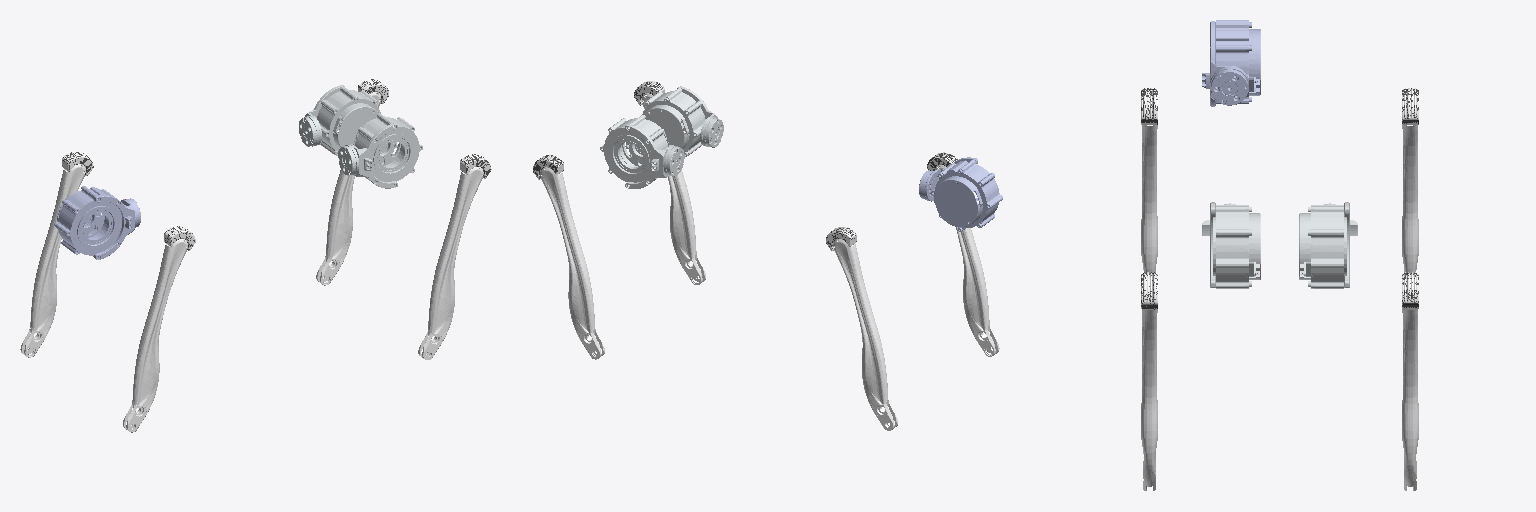
URDF robot description (leg_urdf20250414_1):
<?xml version="1.0" encoding="utf-8"?>
<!-- This URDF was automatically created by SolidWorks to URDF Exporter! Originally created by Stephen Brawner ([email redacted]) 
     Commit Version: 1.6.0-4-g7f85cfe  Build Version: 1.6.7995.38578
     For more information, please see http://wiki.ros.org/sw_urdf_exporter -->
<robot
  name="leg_urdf20250414_1">
  <link
    name="base">
    <inertial>
      <origin
        xyz="-0.0066699 -0.0036748 -0.0047946"
        rpy="0 0 0" />
      <mass
        value="5.3832" />
      <inertia
        ixx="0.013437"
        ixy="-6.9871E-06"
        ixz="-0.00020711"
        iyy="0.031665"
        iyz="-9.5328E-06"
        izz="0.039598" />
    </inertial>
    <visual>
      <origin
        xyz="0 0 0"
        rpy="0 0 0" />
      <geometry>
        <mesh
          filename="package://leg_urdf20250414_1/meshes/base.STL" />
      </geometry>
      <material
        name="">
        <color
          rgba="0.25098 0.25098 0.25098 1" />
      </material>
    </visual>
    <collision>
      <origin
        xyz="0 0 0"
        rpy="0 0 0" />
      <geometry>
        <mesh
          filename="package://leg_urdf20250414_1/meshes/base.STL" />
      </geometry>
    </collision>
  </link>
  <link
    name="LF_hip">
    <inertial>
      <origin
        xyz="0.042864 -0.00047394 -2.8926E-05"
        rpy="0 0 0" />
      <mass
        value="0.16386" />
      <inertia
        ixx="0.00012341"
        ixy="-5.2157E-06"
        ixz="-1.1555E-06"
        iyy="0.0001958"
        iyz="-9.8907E-08"
        izz="0.00010494" />
    </inertial>
    <visual>
      <origin
        xyz="0 0 0"
        rpy="0 0 0" />
      <geometry>
        <mesh
          filename="package://leg_urdf20250414_1/meshes/LF_hip.STL" />
      </geometry>
      <material
        name="">
        <color
          rgba="0.89804 0.91765 0.92941 1" />
      </material>
    </visual>
    <collision>
      <origin
        xyz="0 0 0"
        rpy="0 0 0" />
      <geometry>
        <mesh
          filename="package://leg_urdf20250414_1/meshes/LF_hip.STL" />
      </geometry>
    </collision>
  </link>
  <joint
    name="LF_HAA"
    type="revolute">
    <origin
      xyz="0.1978 0.06 -0.0073383"
      rpy="0 0 0" />
    <parent
      link="base" />
    <child
      link="LF_hip" />
    <axis
      xyz="1 0 0" />
    <limit
      lower="-1.05"
      upper="1.05"
      effort="60"
      velocity="15" />
  </joint>
  <link
    name="LF_thigh">
    <inertial>
      <origin
        xyz="0.00436683720793934 0.0220762223078676 -0.0940952641066127"
        rpy="0 0 0" />
      <mass
        value="0.882649526971419" />
      <inertia
        ixx="0.00415924322538449"
        ixy="-5.34750962434057E-06"
        ixz="-9.05829574075116E-05"
        iyy="0.00457431590966923"
        iyz="3.5094545931096E-05"
        izz="0.000520630016824553" />
    </inertial>
    <visual>
      <origin
        xyz="0 0 0"
        rpy="0 0 0" />
      <geometry>
        <mesh
          filename="package://leg_urdf20250414_1/meshes/LF_thigh.STL" />
      </geometry>
      <material
        name="">
        <color
          rgba="0.898039215686275 0.917647058823529 0.929411764705882 1" />
      </material>
    </visual>
    <collision>
      <origin
        xyz="0 0 0"
        rpy="0 0 0" />
      <geometry>
        <mesh
          filename="package://leg_urdf20250414_1/meshes/LF_thigh.STL" />
      </geometry>
    </collision>
  </link>
  <joint
    name="LF_HFE"
    type="revolute">
    <origin
      xyz="0.0627 0.0624 0"
      rpy="0 0 0" />
    <parent
      link="LF_hip" />
    <child
      link="LF_thigh" />
    <axis
      xyz="0 1 0" />
    <limit
      lower="-1.57"
      upper="3.35"
      effort="60"
      velocity="15" />
  </joint>
  <link
    name="LF_calf">
    <inertial>
      <origin
        xyz="0.0353231393749997 0.000329711873662181 0.137279161740425"
        rpy="0 0 0" />
      <mass
        value="0.291228893559729" />
      <inertia
        ixx="0.00107142137463083"
        ixy="8.16218987771121E-08"
        ixz="-0.000225822383336276"
        iyy="0.0011429950874814"
        iyz="1.42384757266927E-07"
        izz="8.3967835261648E-05" />
    </inertial>
    <visual>
      <origin
        xyz="0 0 0"
        rpy="0 0 0" />
      <geometry>
        <mesh
          filename="package://leg_urdf20250414_1/meshes/LF_calf.STL" />
      </geometry>
      <material
        name="">
        <color
          rgba="1 1 1 1" />
      </material>
    </visual>
    <collision>
      <origin
        xyz="0 0 0"
        rpy="0 0 0" />
      <geometry>
        <mesh
          filename="package://leg_urdf20250414_1/meshes/LF_calf.STL" />
      </geometry>
    </collision>
  </link>
  <joint
    name="LF_KFE"
    type="revolute">
    <origin
      xyz="0.024642 0.033 -0.28146"
      rpy="0 0 0" />
    <parent
      link="LF_thigh" />
    <child
      link="LF_calf" />
    <axis
      xyz="0 1 0" />
    <limit
      lower="0"
      upper="2.2"
      effort="60"
      velocity="15" />
  </joint>
  <link
    name="LF_FOOT">
    <inertial>
      <origin
        xyz="-0.609114064249484 0.332622028991796 -0.155700005966804"
        rpy="0 0 0" />
      <mass
        value="0.0259775757821095" />
      <inertia
        ixx="5.12957211624476E-06"
        ixy="-1.23448279124937E-06"
        ixz="-1.64037105362469E-12"
        iyy="2.66954930549516E-06"
        iyz="1.55483362744839E-12"
        izz="6.06492352296267E-06" />
    </inertial>
    <visual>
      <origin
        xyz="0 0 0"
        rpy="0 0 0" />
      <geometry>
        <mesh
          filename="package://leg_urdf20250414_1/meshes/LF_FOOT.STL" />
      </geometry>
      <material
        name="">
        <color
          rgba="0.384313725490196 0.384313725490196 0.384313725490196 1" />
      </material>
    </visual>
    <collision>
      <origin
        xyz="0 0 0"
        rpy="0 0 0" />
      <geometry>
        <mesh
          filename="package://leg_urdf20250414_1/meshes/LF_FOOT.STL" />
      </geometry>
    </collision>
  </link>
  <joint
    name="LF_foot_fixed"
    type="fixed">
    <origin
      xyz="-0.285141510567482 -0.155399999999991 -0.318544612097913"
      rpy="-1.5707963267949 1.52191034425173 3.14159265358979" />
    <parent
      link="LF_calf" />
    <child
      link="LF_FOOT" />
    <axis
      xyz="0 0 0" />
    <limit
      lower="-2.72"
      upper="-0.84"
      effort="60"
      velocity="15" />
  </joint>
  <link
    name="LH_hip">
    <inertial>
      <origin
        xyz="-0.0433644646355627 -0.000473926080253394 2.89141840380536E-05"
        rpy="0 0 0" />
      <mass
        value="0.16385534253276" />
      <inertia
        ixx="0.000123407065871323"
        ixy="5.21572443490012E-06"
        ixz="-1.15546077533709E-06"
        iyy="0.000195800284945129"
        iyz="9.8908641401561E-08"
        izz="0.000104939607045861" />
    </inertial>
    <visual>
      <origin
        xyz="0 0 0"
        rpy="0 0 0" />
      <geometry>
        <mesh
          filename="package://leg_urdf20250414_1/meshes/LH_hip.STL" />
      </geometry>
      <material
        name="">
        <color
          rgba="0.898039215686275 0.917647058823529 0.929411764705882 1" />
      </material>
    </visual>
    <collision>
      <origin
        xyz="0 0 0"
        rpy="0 0 0" />
      <geometry>
        <mesh
          filename="package://leg_urdf20250414_1/meshes/LH_hip.STL" />
      </geometry>
    </collision>
  </link>
  <joint
    name="LH_HAA"
    type="revolute">
    <origin
      xyz="-0.1973 0.06 -0.0073383"
      rpy="0 0 0" />
    <parent
      link="base" />
    <child
      link="LH_hip" />
    <axis
      xyz="-1 0 0" />
    <limit
      lower="-1.05"
      upper="1.05"
      effort="60"
      velocity="15" />
  </joint>
  <link
    name="LH_thigh">
    <inertial>
      <origin
        xyz="0.00698095866463322 0.0650895806226572 -0.0944113989514764"
        rpy="0 0 0" />
      <mass
        value="0.878447120767621" />
      <inertia
        ixx="0.00416751500567482"
        ixy="-5.43143322040717E-06"
        ixz="-0.00018081047075565"
        iyy="0.00457417825946368"
        iyz="3.50855269071827E-05"
        izz="0.00051219180647571" />
    </inertial>
    <visual>
      <origin
        xyz="0 0 0"
        rpy="0 0 0" />
      <geometry>
        <mesh
          filename="package://leg_urdf20250414_1/meshes/LH_thigh.STL" />
      </geometry>
      <material
        name="">
        <color
          rgba="0.898039215686275 0.917647058823529 0.929411764705882 1" />
      </material>
    </visual>
    <collision>
      <origin
        xyz="0 0 0"
        rpy="0 0 0" />
      <geometry>
        <mesh
          filename="package://leg_urdf20250414_1/meshes/LH_thigh.STL" />
      </geometry>
    </collision>
  </link>
  <joint
    name="LH_HFE"
    type="revolute">
    <origin
      xyz="-0.0632 0.0195 0"
      rpy="0 0 0" />
    <parent
      link="LH_hip" />
    <child
      link="LH_thigh" />
    <axis
      xyz="0 1 0" />
    <limit
      lower="-1.57"
      upper="3.35"
      effort="60"
      velocity="15" />
  </joint>
  <link
    name="LH_calf">
    <inertial>
      <origin
        xyz="0.0353231351553344 0.000329711798349563 0.137279148280852"
        rpy="0 0 0" />
      <mass
        value="0.29122892183166" />
      <inertia
        ixx="0.00107142142787039"
        ixy="8.16212025763138E-08"
        ixz="-0.000225822393349355"
        iyy="0.00114299514793146"
        iyz="1.42387332405903E-07"
        izz="8.39678431642949E-05" />
    </inertial>
    <visual>
      <origin
        xyz="0 0 0"
        rpy="0 0 0" />
      <geometry>
        <mesh
          filename="package://leg_urdf20250414_1/meshes/LH_calf.STL" />
      </geometry>
      <material
        name="">
        <color
          rgba="1 1 1 1" />
      </material>
    </visual>
    <collision>
      <origin
        xyz="0 0 0"
        rpy="0 0 0" />
      <geometry>
        <mesh
          filename="package://leg_urdf20250414_1/meshes/LH_calf.STL" />
      </geometry>
    </collision>
  </link>
  <joint
    name="LH_KFE"
    type="revolute">
    <origin
      xyz="0.025437 0.0759 -0.28147"
      rpy="0 0 0" />
    <parent
      link="LH_thigh" />
    <child
      link="LH_calf" />
    <axis
      xyz="0 1 0" />
    <limit
      lower="0"
      upper="2.2"
      effort="60"
      velocity="15" />
  </joint>
  <link
    name="LH_FOOT">
    <inertial>
      <origin
        xyz="-0.583678557893057 -0.186960008792956 -0.155700005966238"
        rpy="0 0 0" />
      <mass
        value="0.0259775757821097" />
      <inertia
        ixx="5.12957211624476E-06"
        ixy="-1.23448279124939E-06"
        ixz="-1.64037100818952E-12"
        iyy="2.66954930549518E-06"
        iyz="1.55483370143718E-12"
        izz="6.0649235229627E-06" />
    </inertial>
    <visual>
      <origin
        xyz="0 0 0"
        rpy="0 0 0" />
      <geometry>
        <mesh
          filename="package://leg_urdf20250414_1/meshes/LH_FOOT.STL" />
      </geometry>
      <material
        name="">
        <color
          rgba="0.384313725490196 0.384313725490196 0.384313725490196 1" />
      </material>
    </visual>
    <collision>
      <origin
        xyz="0 0 0"
        rpy="0 0 0" />
      <geometry>
        <mesh
          filename="package://leg_urdf20250414_1/meshes/LH_FOOT.STL" />
      </geometry>
    </collision>
  </link>
  <joint
    name="LH_foot_fixed"
    type="fixed">
    <origin
      xyz="0.235062736575495 -0.1554 -0.318529655609828"
      rpy="-1.5707963267949 1.52191034425174 3.14159265358979" />
    <parent
      link="LH_calf" />
    <child
      link="LH_FOOT" />
    <axis
      xyz="0 0 0" />
    <limit
      lower="-2.72"
      upper="-0.84"
      effort="60"
      velocity="15" />
  </joint>
  <link
    name="RF_hip">
    <inertial>
      <origin
        xyz="0.0433644648693298 0.0004739479629823 -2.89217444162659E-05"
        rpy="0 0 0" />
      <mass
        value="0.163855386935685" />
      <inertia
        ixx="0.000123407074924426"
        ixy="5.21571674467525E-06"
        ixz="-1.15545094341875E-06"
        iyy="0.000195800300641504"
        iyz="9.89103694234527E-08"
        izz="0.000104939625038023" />
    </inertial>
    <visual>
      <origin
        xyz="0 0 0"
        rpy="0 0 0" />
      <geometry>
        <mesh
          filename="package://leg_urdf20250414_1/meshes/RF_hip.STL" />
      </geometry>
      <material
        name="">
        <color
          rgba="0.898039215686275 0.917647058823529 0.929411764705882 1" />
      </material>
    </visual>
    <collision>
      <origin
        xyz="0 0 0"
        rpy="0 0 0" />
      <geometry>
        <mesh
          filename="package://leg_urdf20250414_1/meshes/RF_hip.STL" />
      </geometry>
    </collision>
  </link>
  <joint
    name="RF_HAA"
    type="revolute">
    <origin
      xyz="0.1973 -0.06 -0.0073383"
      rpy="0 0 0" />
    <parent
      link="base" />
    <child
      link="RF_hip" />
    <axis
      xyz="1 0 0" />
    <limit
      lower="-1.05"
      upper="1.05"
      effort="60"
      velocity="15" />
  </joint>
  <link
    name="RF_thigh">
    <inertial>
      <origin
        xyz="0.00450532741981985 -0.0651233509730109 -0.0943309028284363"
        rpy="0 0 0" />
      <mass
        value="0.880353408720973" />
      <inertia
        ixx="0.00415842883045724"
        ixy="5.34875598523864E-06"
        ixz="-9.05011725768449E-05"
        iyy="0.0045734761437616"
        iyz="-3.50630935382061E-05"
        izz="0.000520561613293802" />
    </inertial>
    <visual>
      <origin
        xyz="0 0 0"
        rpy="0 0 0" />
      <geometry>
        <mesh
          filename="package://leg_urdf20250414_1/meshes/RF_thigh.STL" />
      </geometry>
      <material
        name="">
        <color
          rgba="0.898039215686275 0.917647058823529 0.929411764705882 1" />
      </material>
    </visual>
    <collision>
      <origin
        xyz="0 0 0"
        rpy="0 0 0" />
      <geometry>
        <mesh
          filename="package://leg_urdf20250414_1/meshes/RF_thigh.STL" />
      </geometry>
    </collision>
  </link>
  <joint
    name="RF_HFE"
    type="revolute">
    <origin
      xyz="0.0632 -0.0195 0"
      rpy="0 0 0" />
    <parent
      link="RF_hip" />
    <child
      link="RF_thigh" />
    <axis
      xyz="0 -1 0" />
    <limit
      lower="-3.35"
      upper="1.57"
      effort="60"
      velocity="15" />
  </joint>
  <link
    name="RF_calf">
    <inertial>
      <origin
        xyz="0.0353226630049198 -0.000330081314130204 0.137276291361542"
        rpy="0 0 0" />
      <mass
        value="0.291237111817664" />
      <inertia
        ixx="0.00107148301804938"
        ixy="-8.25716094186912E-08"
        ixz="-0.000225830862552133"
        iyy="0.00114305842409935"
        iyz="-1.42952371989528E-07"
        izz="8.39698788065223E-05" />
    </inertial>
    <visual>
      <origin
        xyz="0 0 0"
        rpy="0 0 0" />
      <geometry>
        <mesh
          filename="package://leg_urdf20250414_1/meshes/RF_calf.STL" />
      </geometry>
      <material
        name="">
        <color
          rgba="1 1 1 1" />
      </material>
    </visual>
    <collision>
      <origin
        xyz="0 0 0"
        rpy="0 0 0" />
      <geometry>
        <mesh
          filename="package://leg_urdf20250414_1/meshes/RF_calf.STL" />
      </geometry>
    </collision>
  </link>
  <joint
    name="RF_KFE"
    type="revolute">
    <origin
      xyz="0.024642 -0.0759 -0.28146"
      rpy="0 0 0" />
    <parent
      link="RF_thigh" />
    <child
      link="RF_calf" />
    <axis
      xyz="0 -1 0" />
    <limit
      lower="-2.2"
      upper="0"
      effort="60"
      velocity="15" />
  </joint>
  <link
    name="RF_FOOT">
    <inertial>
      <origin
        xyz="-0.609114102277992 0.332621951902891 0.155699976456909"
        rpy="0 0 0" />
      <mass
        value="0.0259777190681024" />
      <inertia
        ixx="5.12961013777177E-06"
        ixy="-1.23449156481814E-06"
        ixz="-4.24107873171126E-12"
        iyy="2.66955581065844E-06"
        iyz="4.26735761284004E-12"
        izz="6.06496341868077E-06" />
    </inertial>
    <visual>
      <origin
        xyz="0 0 0"
        rpy="0 0 0" />
      <geometry>
        <mesh
          filename="package://leg_urdf20250414_1/meshes/RF_FOOT.STL" />
      </geometry>
      <material
        name="">
        <color
          rgba="0.384313725490196 0.384313725490196 0.384313725490196 1" />
      </material>
    </visual>
    <collision>
      <origin
        xyz="0 0 0"
        rpy="0 0 0" />
      <geometry>
        <mesh
          filename="package://leg_urdf20250414_1/meshes/RF_FOOT.STL" />
      </geometry>
    </collision>
  </link>
  <joint
    name="RF_foot_fixed"
    type="fixed">
    <origin
      xyz="-0.285141510567482 0.15539999999999 -0.318544612097913"
      rpy="-1.57079632679489 1.5219103349388 3.14159265358979" />
    <parent
      link="RF_calf" />
    <child
      link="RF_FOOT" />
    <axis
      xyz="0 0 0" />
  </joint>
  <link
    name="RH_hip">
    <inertial>
      <origin
        xyz="-0.0249543538828536 0.000473931035222447 2.89098388941422E-05"
        rpy="0 0 0" />
      <mass
        value="0.163855386935684" />
      <inertia
        ixx="0.000123407074915557"
        ixy="-5.21572449377728E-06"
        ixz="-1.15545638185312E-06"
        iyy="0.000195800305834264"
        iyz="-9.891217026839E-08"
        izz="0.000104939619827479" />
    </inertial>
    <visual>
      <origin
        xyz="0 0 0"
        rpy="0 0 0" />
      <geometry>
        <mesh
          filename="package://leg_urdf20250414_1/meshes/RH_hip.STL" />
      </geometry>
      <material
        name="">
        <color
          rgba="0.792156862745098 0.819607843137255 0.933333333333333 1" />
      </material>
    </visual>
    <collision>
      <origin
        xyz="0 0 0"
        rpy="0 0 0" />
      <geometry>
        <mesh
          filename="package://leg_urdf20250414_1/meshes/RH_hip.STL" />
      </geometry>
    </collision>
  </link>
  <joint
    name="RH_HAA"
    type="revolute">
    <origin
      xyz="-0.21571 -0.06 -0.0073383"
      rpy="0 0 0" />
    <parent
      link="base" />
    <child
      link="RH_hip" />
    <axis
      xyz="-1 0 0" />
    <limit
      lower="-1.05"
      upper="1.05"
      effort="60"
      velocity="15" />
  </joint>
  <link
    name="RH_thigh">
    <inertial>
      <origin
        xyz="0.00710534427929871 -0.0466324566370045 -0.0962519426438375"
        rpy="0 0 0" />
      <mass
        value="0.882603535541175" />
      <inertia
        ixx="0.00416687973544053"
        ixy="5.43296791673738E-06"
        ixz="-0.00018072681332933"
        iyy="0.00457355632460905"
        iyz="-3.50529337456979E-05"
        izz="0.000512220342872574" />
    </inertial>
    <visual>
      <origin
        xyz="0 0 0"
        rpy="0 0 0" />
      <geometry>
        <mesh
          filename="package://leg_urdf20250414_1/meshes/RH_thigh.STL" />
      </geometry>
      <material
        name="">
        <color
          rgba="0.898039215686275 0.917647058823529 0.929411764705882 1" />
      </material>
    </visual>
    <collision>
      <origin
        xyz="0 0 0"
        rpy="0 0 0" />
      <geometry>
        <mesh
          filename="package://leg_urdf20250414_1/meshes/RH_thigh.STL" />
      </geometry>
    </collision>
  </link>
  <joint
    name="RH_HFE"
    type="revolute">
    <origin
      xyz="-0.04479 -0.037843 0.0022486"
      rpy="0 0 0" />
    <parent
      link="RH_hip" />
    <child
      link="RH_thigh" />
    <axis
      xyz="0 -1 0" />
    <limit
      lower="-3.35"
      upper="1.57"
      effort="60"
      velocity="15" />
  </joint>
  <link
    name="RH_calf">
    <inertial>
      <origin
        xyz="0.0353226646106752 -0.000330081486733247 0.137276294734896"
        rpy="0 0 0" />
      <mass
        value="0.291237107924892" />
      <inertia
        ixx="0.0010714830667072"
        ixy="-8.25724537206379E-08"
        ixz="-0.000225830869900819"
        iyy="0.00114305847107113"
        iyz="-1.42955155261649E-07"
        izz="8.39698773791045E-05" />
    </inertial>
    <visual>
      <origin
        xyz="0 0 0"
        rpy="0 0 0" />
      <geometry>
        <mesh
          filename="package://leg_urdf20250414_1/meshes/RH_calf.STL" />
      </geometry>
      <material
        name="">
        <color
          rgba="1 1 1 1" />
      </material>
    </visual>
    <collision>
      <origin
        xyz="0 0 0"
        rpy="0 0 0" />
      <geometry>
        <mesh
          filename="package://leg_urdf20250414_1/meshes/RH_calf.STL" />
      </geometry>
    </collision>
  </link>
  <joint
    name="RH_KFE"
    type="revolute">
    <origin
      xyz="0.025437 -0.057557 -0.28372"
      rpy="0 0 0" />
    <parent
      link="RH_thigh" />
    <child
      link="RH_calf" />
    <axis
      xyz="0 -1 0" />
    <limit
      lower="-2.2"
      upper="0"
      effort="60"
      velocity="15" />
  </joint>
  <link
    name="RH_FOOT">
    <inertial>
      <origin
        xyz="-0.583678593178597 -0.18696007910181 0.155699976457479"
        rpy="0 0 0" />
      <mass
        value="0.0259777190681019" />
      <inertia
        ixx="5.12961011009384E-06"
        ixy="-1.23449159239591E-06"
        ixz="-4.24107872388451E-12"
        iyy="2.66955583833627E-06"
        iyz="4.26735761111812E-12"
        izz="6.06496341868067E-06" />
    </inertial>
    <visual>
      <origin
        xyz="0 0 0"
        rpy="0 0 0" />
      <geometry>
        <mesh
          filename="package://leg_urdf20250414_1/meshes/RH_FOOT.STL" />
      </geometry>
      <material
        name="">
        <color
          rgba="0.384313725490196 0.384313725490196 0.384313725490196 1" />
      </material>
    </visual>
    <collision>
      <origin
        xyz="0 0 0"
        rpy="0 0 0" />
      <geometry>
        <mesh
          filename="package://leg_urdf20250414_1/meshes/RH_FOOT.STL" />
      </geometry>
    </collision>
  </link>
  <joint
    name="RH_foot_fixed"
    type="fixed">
    <origin
      xyz="0.23506273675208 0.155400000000001 -0.318529655493733"
      rpy="-1.5707963267949 1.52191034614904 3.14159265358979" />
    <parent
      link="RH_calf" />
    <child
      link="RH_FOOT" />
    <axis
      xyz="0 0 0" />
  </joint>
  <link
    name="base_imu">
    <inertial>
      <origin
        xyz="-0.140227009525555 0.0236612413246912 0.0203176869868776"
        rpy="0 0 0" />
      <mass
        value="15.8318733004591" />
      <inertia
        ixx="0.25571851283607"
        ixy="0.00106802564790356"
        ixz="0.00465265089929087"
        iyy="0.880336400358266"
        iyz="-0.0114555500717523"
        izz="0.92731266552924" />
    </inertial>
    <visual>
      <origin
        xyz="0 0 0"
        rpy="0 0 0" />
      <geometry>
        <mesh
          filename="package://leg_urdf20250414_1/meshes/base_imu.STL" />
      </geometry>
      <material
        name="">
        <color
          rgba="1 1 1 1" />
      </material>
    </visual>
    <collision>
      <origin
        xyz="0 0 0"
        rpy="0 0 0" />
      <geometry>
        <mesh
          filename="package://leg_urdf20250414_1/meshes/base_imu.STL" />
      </geometry>
    </collision>
  </link>
  <joint
    name="base_imu_joint"
    type="fixed">
    <origin
      xyz="0.14371 0 -0.058338"
      rpy="0 0 0" />
    <parent
      link="base" />
    <child
      link="base_imu" />
    <axis
      xyz="0 0 0" />
  </joint>
</robot>

--- Render facts (derived) ---
Views: 3 orthographic renders of the robot side by side, from view 1: azimuth 30°, elevation 25°; view 2: azimuth 150°, elevation 25°; view 3: azimuth 270°, elevation 25°.
Model leg_urdf20250414_1 with 18 links and 17 joints (12 revolute, 5 fixed), rooted at base, posed every joint at zero.
Visible links, largest first — view 1: RH_hip, RF_hip, RH_calf, RF_calf, LH_calf, LF_hip, LF_calf; view 2: LF_hip, RH_hip, LH_calf, LF_calf, RF_hip, RH_calf, RF_calf; view 3: RH_hip, LF_hip, RF_hip, RF_calf, LF_calf, LH_calf, RH_calf.
Link boxes in pixels (box(x1,y1,x2,y2)): RH_hip: box(54, 186, 140, 259); RF_hip: box(338, 113, 422, 188); RH_calf: box(123, 226, 195, 432); RF_calf: box(418, 154, 491, 359); LH_calf: box(20, 152, 92, 357); LF_hip: box(299, 85, 380, 155); LF_calf: box(316, 80, 388, 285); LF_hip: box(600, 115, 684, 188); RH_hip: box(919, 157, 1002, 231); LH_calf: box(826, 227, 897, 430); LF_calf: box(533, 155, 604, 359); RF_hip: box(642, 86, 723, 156); RH_calf: box(927, 152, 999, 356); RF_calf: box(634, 81, 705, 284); RH_hip: box(1202, 20, 1260, 106); LF_hip: box(1299, 202, 1357, 288); RF_hip: box(1202, 202, 1260, 288); RF_calf: box(1141, 272, 1157, 490); LF_calf: box(1402, 272, 1418, 490); LH_calf: box(1402, 88, 1418, 273); RH_calf: box(1141, 88, 1157, 273).
Size in the robot's own frame: 0.6975 by 0.3324 by 0.3665 metres.
Meshes: 18 distinct files referenced, 11 mesh visuals loaded (11 binary STL); not drawn: 7 (reference not matched to a file when rendering).
